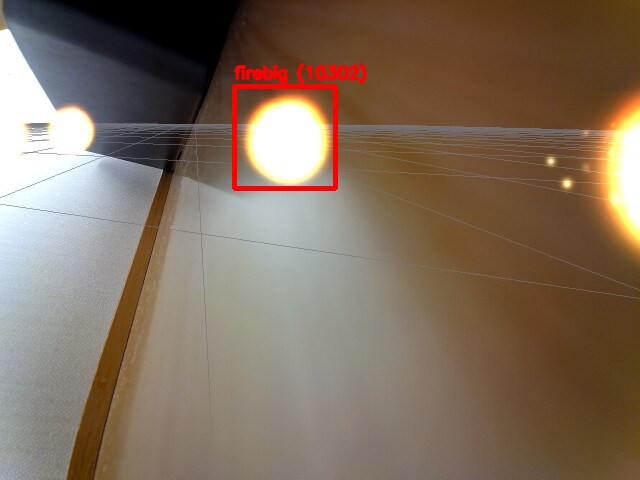firebig: (234, 86, 335, 188)
